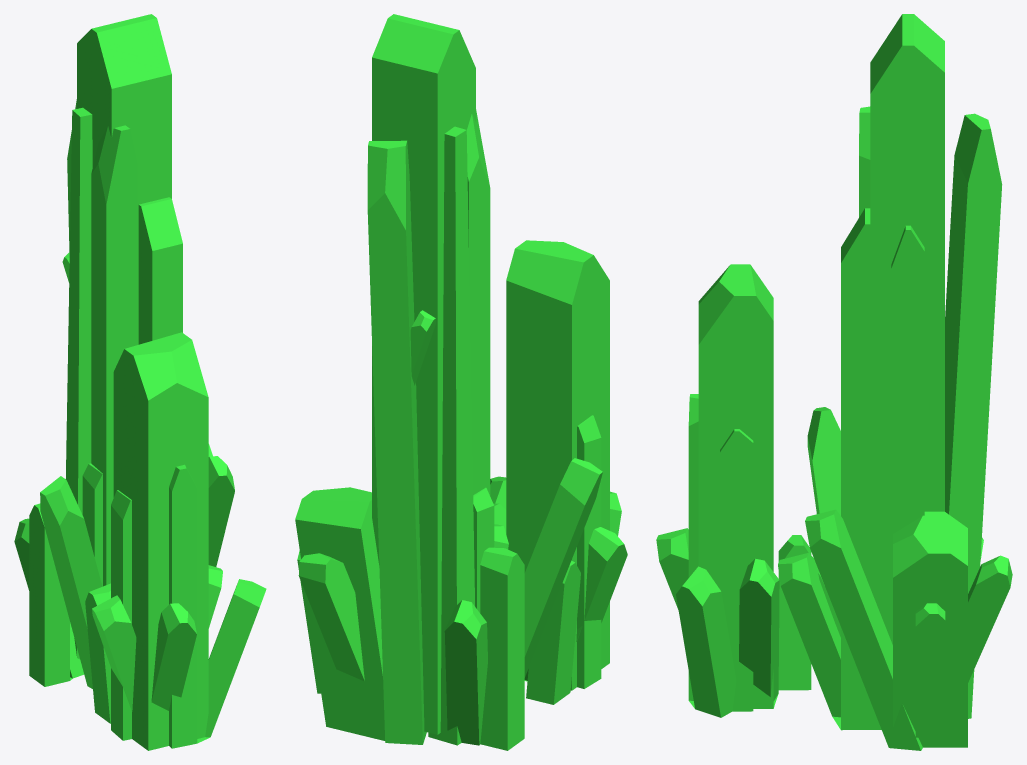
File: Kristal_B.fbx
3 renders of one model, left to right at view 1: azimuth 30°, elevation 25°; view 2: azimuth 150°, elevation 25°; view 3: azimuth 270°, elevation 25°, orthographic. The views are drawn at different scales.
Visible parts, largest first — view 1: Kristal; view 2: Kristal; view 3: Kristal.
Part boxes in pixels (x1=…): Kristal: x1=14, y1=14, x2=266, y2=750; Kristal: x1=295, y1=14, x2=627, y2=750; Kristal: x1=656, y1=14, x2=1012, y2=750.
Bounding box in the file's own units: 73.66 × 202 × 95.28.
